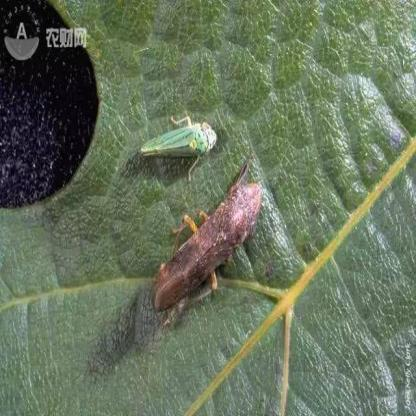grasshopper: (138, 165, 267, 318), (132, 102, 222, 181)
